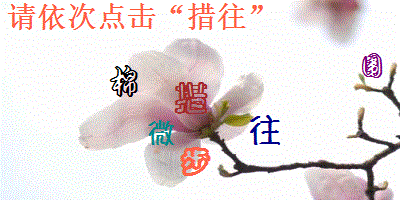text: (173, 81, 209, 116), (248, 114, 282, 148), (109, 64, 140, 99), (179, 146, 212, 177), (147, 119, 175, 148), (361, 51, 384, 80)
